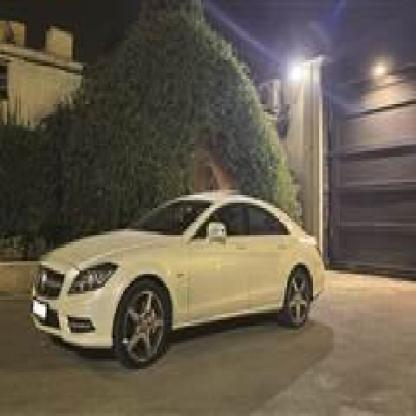Car: (31, 192, 336, 364)
